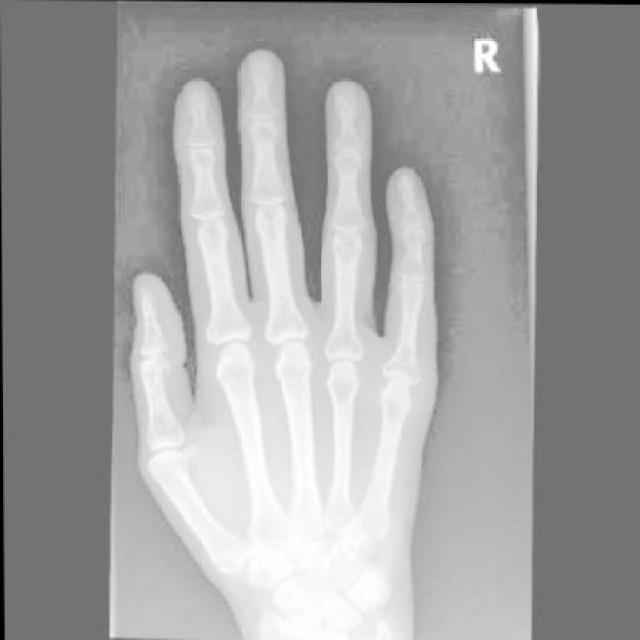Fracture: (135, 351, 168, 384)
